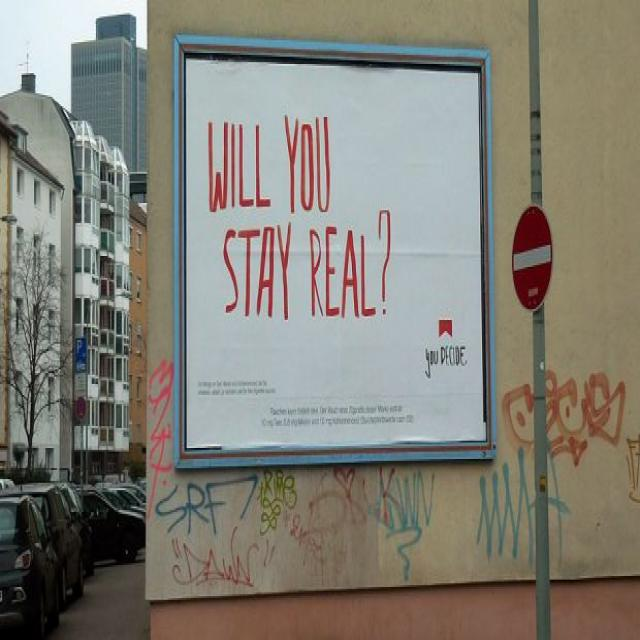Werbetafel frei: (163, 26, 502, 476)
